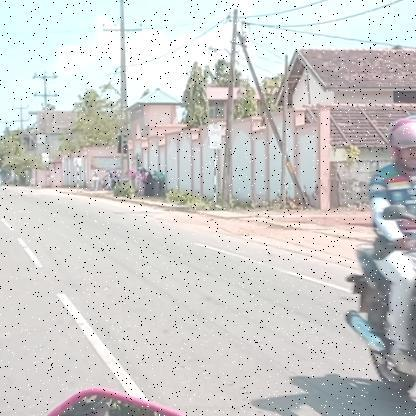motorcycle: (341, 225, 416, 416)
